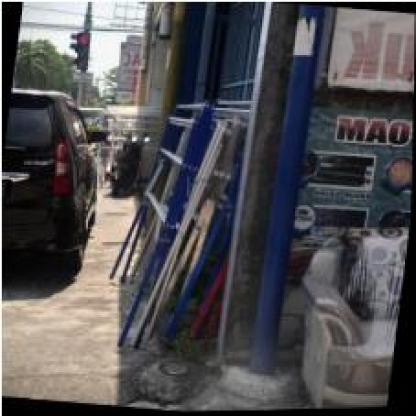red: (71, 31, 90, 68)
